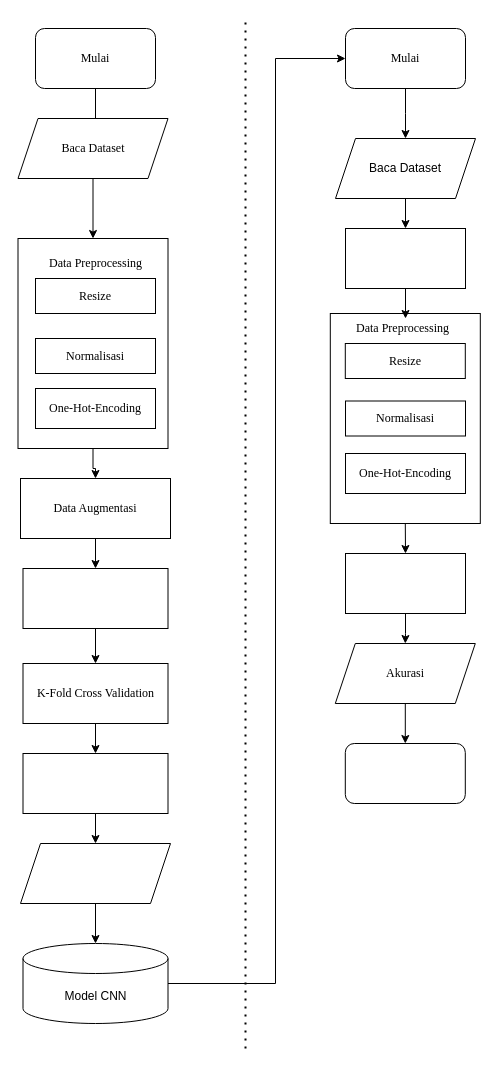
The diagram is 498 pixels wide and 1067 high, and some of its shapes have lost their labels. Here are the shapes that lost their labels. From the top down, the box of each, then its label:
(344, 228, 466, 288): MTCNN
(22, 568, 168, 628): VGG16net
(344, 552, 466, 614): Deteksi Penggunaan Masker
(22, 752, 168, 814): Latih Model CNN
(344, 742, 465, 804): Selesai
(20, 842, 170, 904): Evaluasi Model
